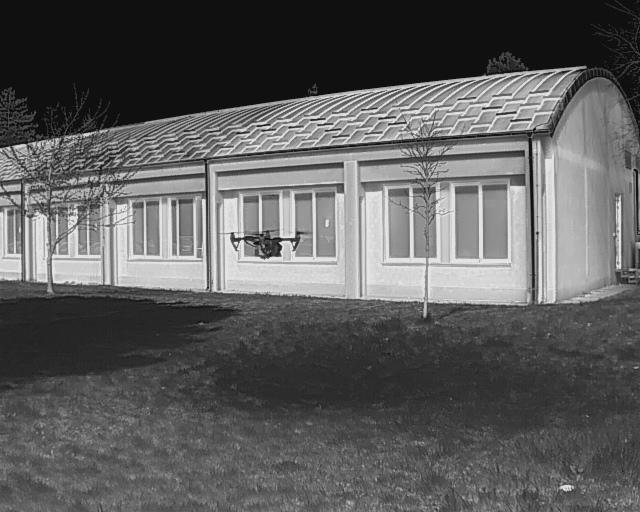drone: (212, 221, 320, 268)
